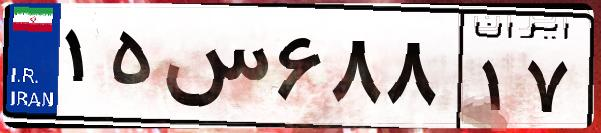1: (57, 26, 110, 100), (475, 38, 525, 113)
5: (110, 28, 158, 98)
6: (270, 28, 330, 110)
7: (525, 38, 570, 115)
8: (385, 28, 445, 110), (330, 28, 385, 110)
س: (158, 20, 270, 120)
